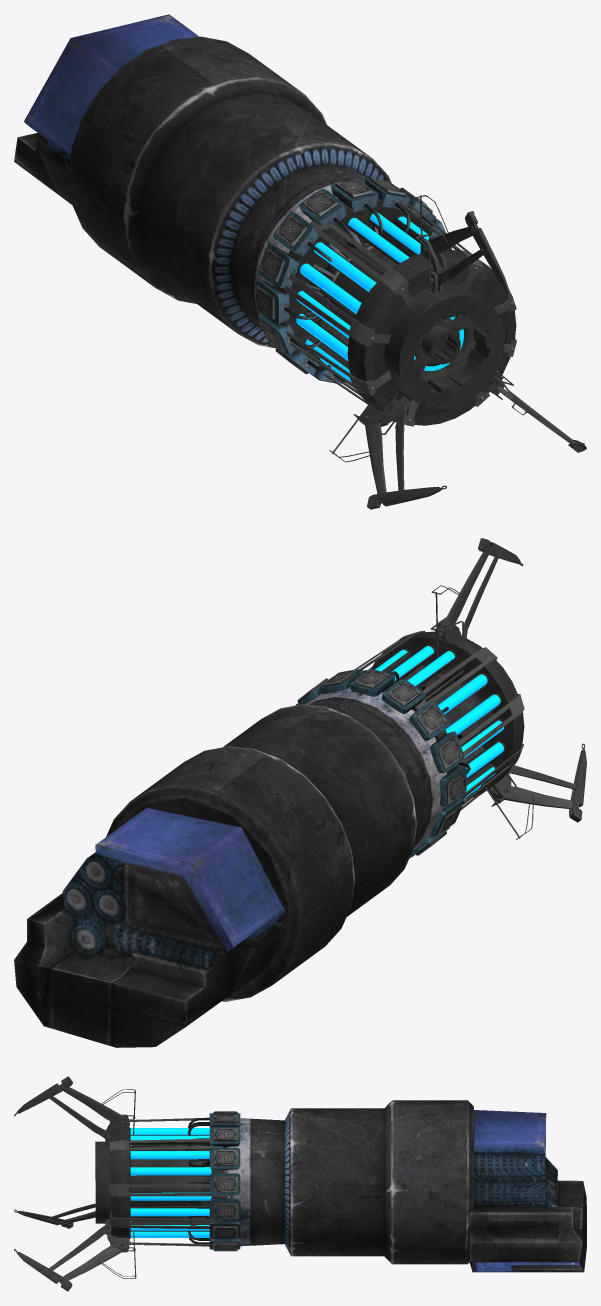
Rendered from Swarm killer SMG.glb.
3 views of the same model, one above another, from view 1: azimuth 30°, elevation 25°; view 2: azimuth 150°, elevation 25°; view 3: azimuth 270°, elevation 25° (orthographic). The views are drawn at different scales.
Visible parts, largest first — view 1: Object_8, Object_16, Object_20, Object_13, Object_15, Object_14; view 2: Object_8, Object_16, Object_20, Object_13, Object_14, Object_15; view 3: Object_8, Object_16, Object_20, Object_13, Object_14, Object_15.
Boxes of the visible parts, x1,y1,x2,y2 form: Object_8: (14, 14, 391, 348); Object_16: (276, 198, 516, 425); Object_20: (256, 178, 451, 383); Object_13: (329, 195, 586, 509); Object_15: (281, 202, 516, 426); Object_14: (296, 212, 463, 382); Object_8: (14, 687, 447, 1047); Object_16: (371, 631, 524, 798); Object_20: (295, 669, 470, 858); Object_13: (430, 538, 586, 839); Object_14: (375, 646, 503, 797); Object_15: (354, 630, 524, 810); Object_8: (223, 1100, 586, 1272); Object_16: (95, 1121, 223, 1240); Object_20: (187, 1111, 240, 1251); Object_13: (14, 1076, 136, 1291); Object_14: (130, 1128, 211, 1237); Object_15: (108, 1117, 223, 1246).
Size of the model in its own units: 3.45 by 4.15 by 11.7.
Materials: 6 (5 with a texture image).
